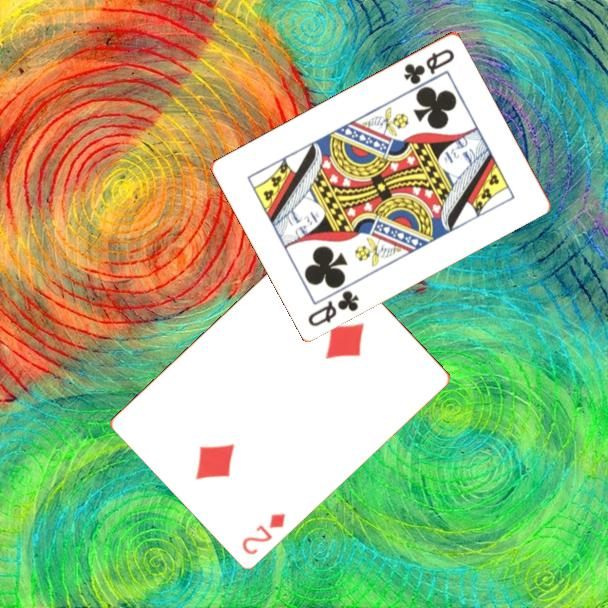c12: (304, 286, 362, 329), (400, 45, 457, 87)
d02: (239, 509, 288, 558)
